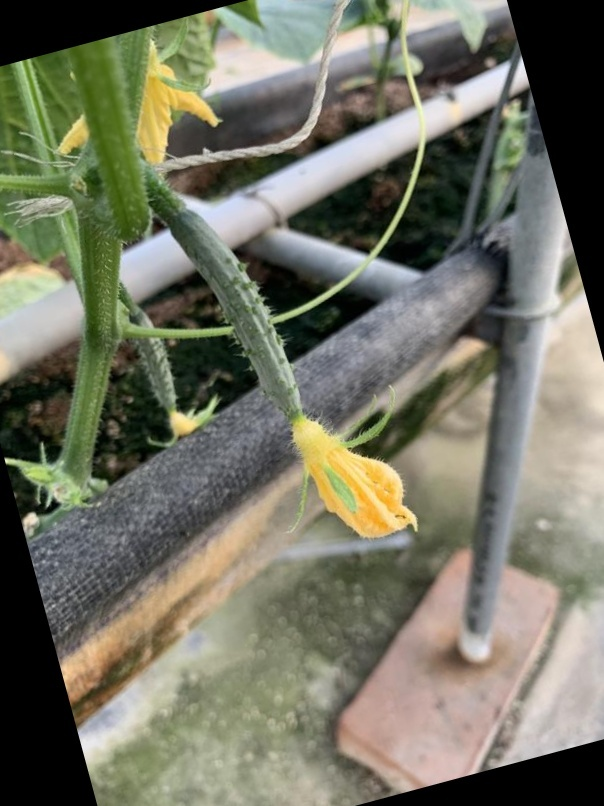bear: (164, 205, 390, 536)
